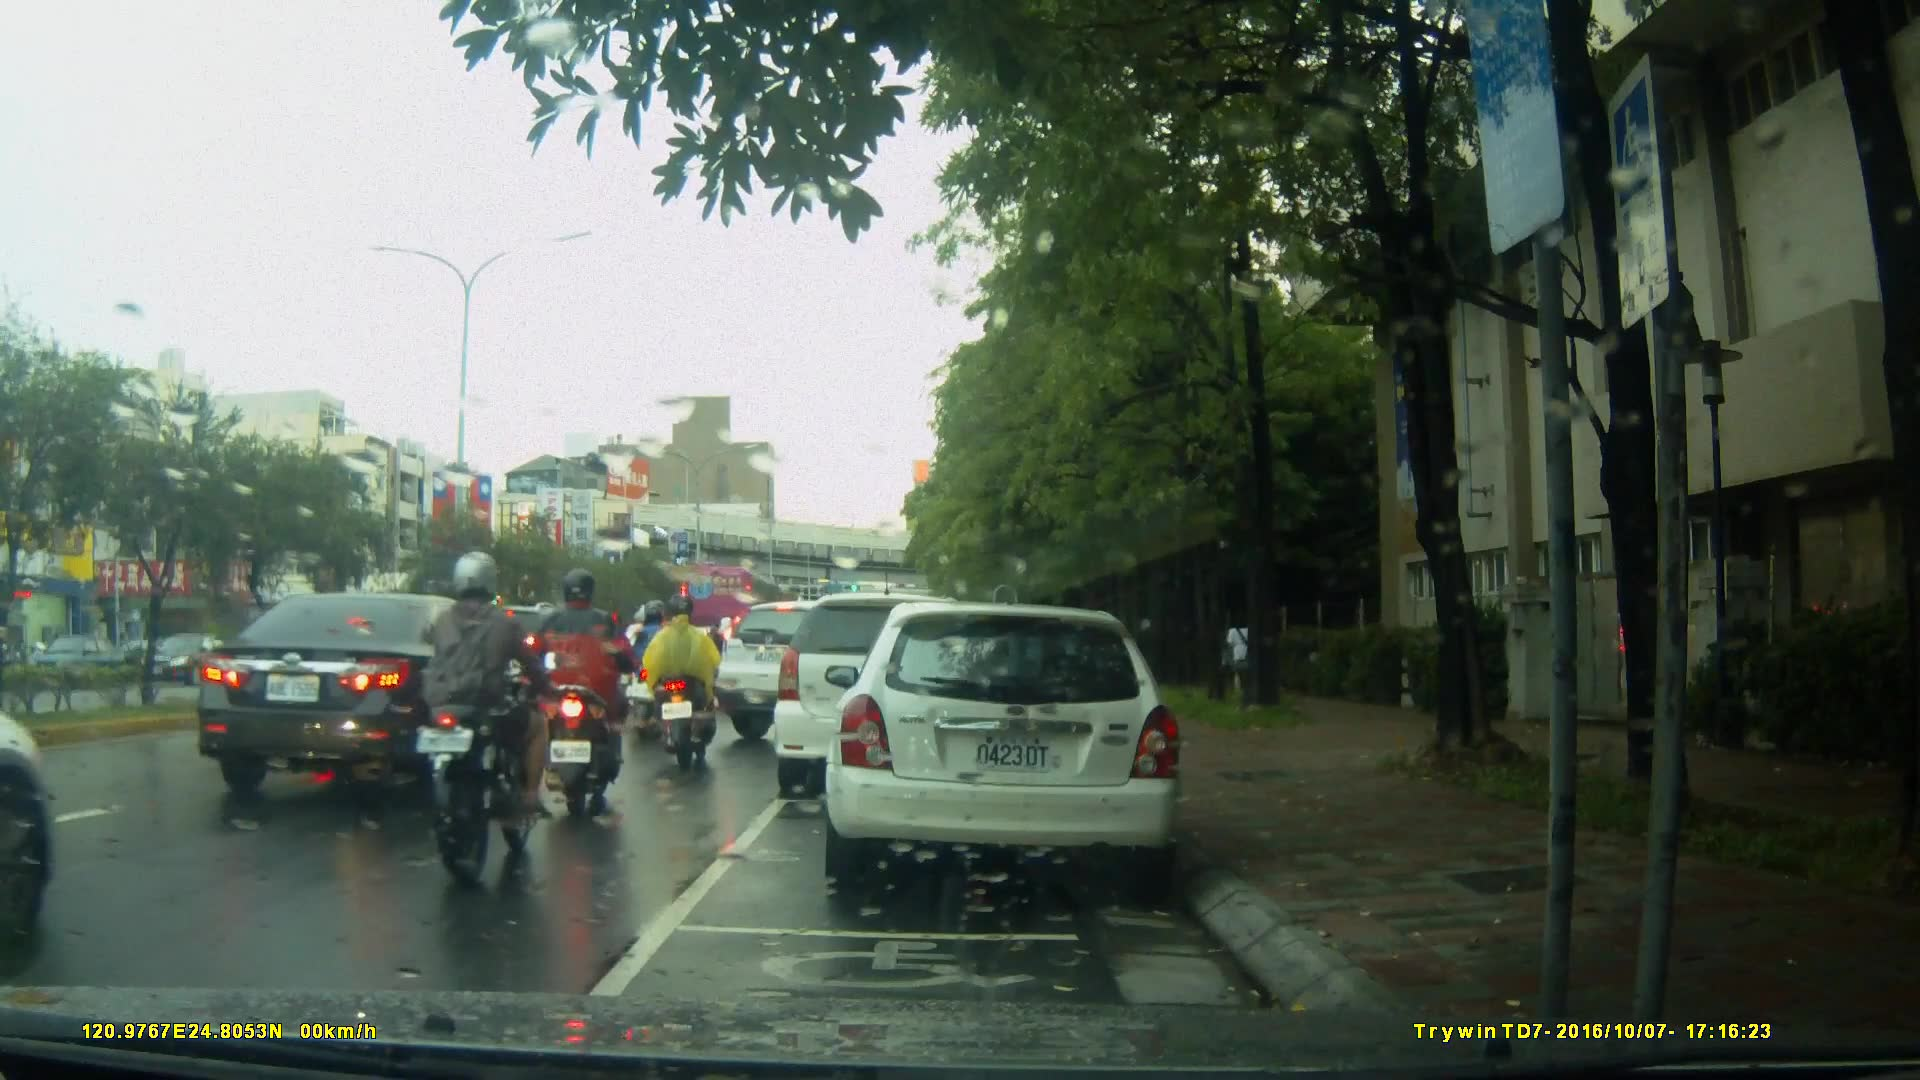rider: (392, 552, 562, 890), (532, 564, 639, 812), (636, 599, 719, 768), (637, 598, 687, 739)
vehicle: (835, 594, 1194, 898), (194, 590, 555, 803), (776, 590, 1026, 784), (715, 597, 936, 742), (677, 565, 783, 644), (22, 631, 130, 688), (130, 633, 245, 686)
